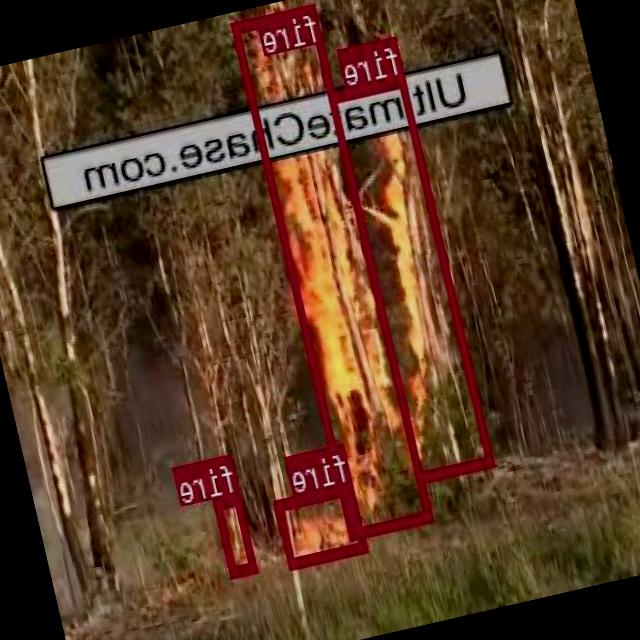fire: (232, 2, 433, 536), (328, 73, 496, 480), (275, 481, 370, 567), (214, 492, 258, 576)
